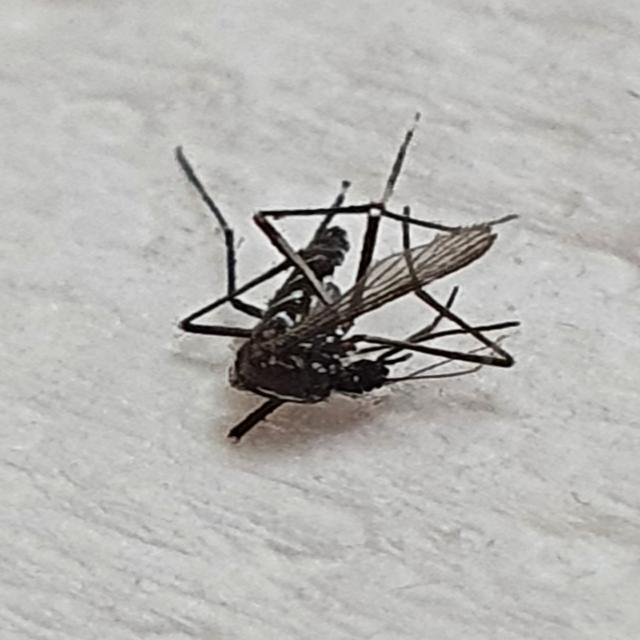albopictus: (147, 91, 541, 444)
